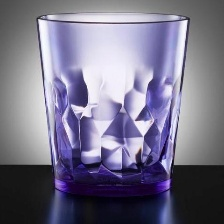glass: (32, 3, 197, 201)
